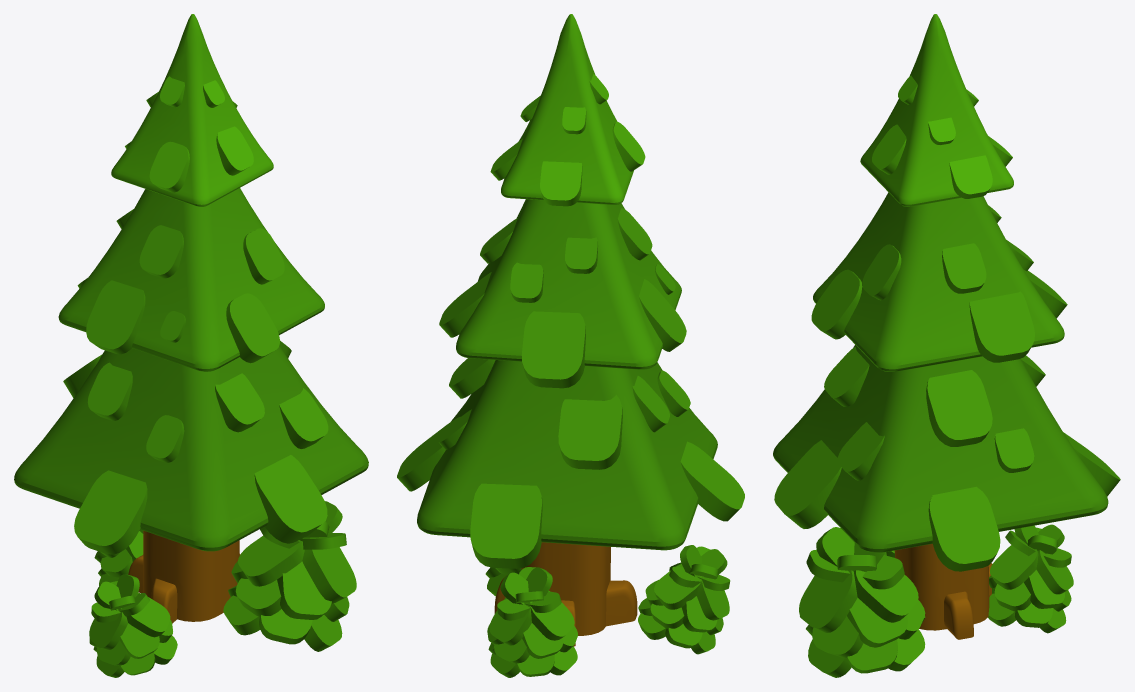
Rendered from bloc_forest_3.fbx.
3 renders of one model, left to right at view 1: azimuth 30°, elevation 25°; view 2: azimuth 150°, elevation 25°; view 3: azimuth 270°, elevation 25°, orthographic.
Visible parts, largest first — view 1: Cube.291; view 2: Cube.291; view 3: Cube.291.
Boxes of the visible parts, x1,y1,x2,y2 form: Cube.291: (14,14,368,677); Cube.291: (397,14,744,677); Cube.291: (773,14,1120,677).
Bounding box in the file's own units: 837 × 1668 × 843.
